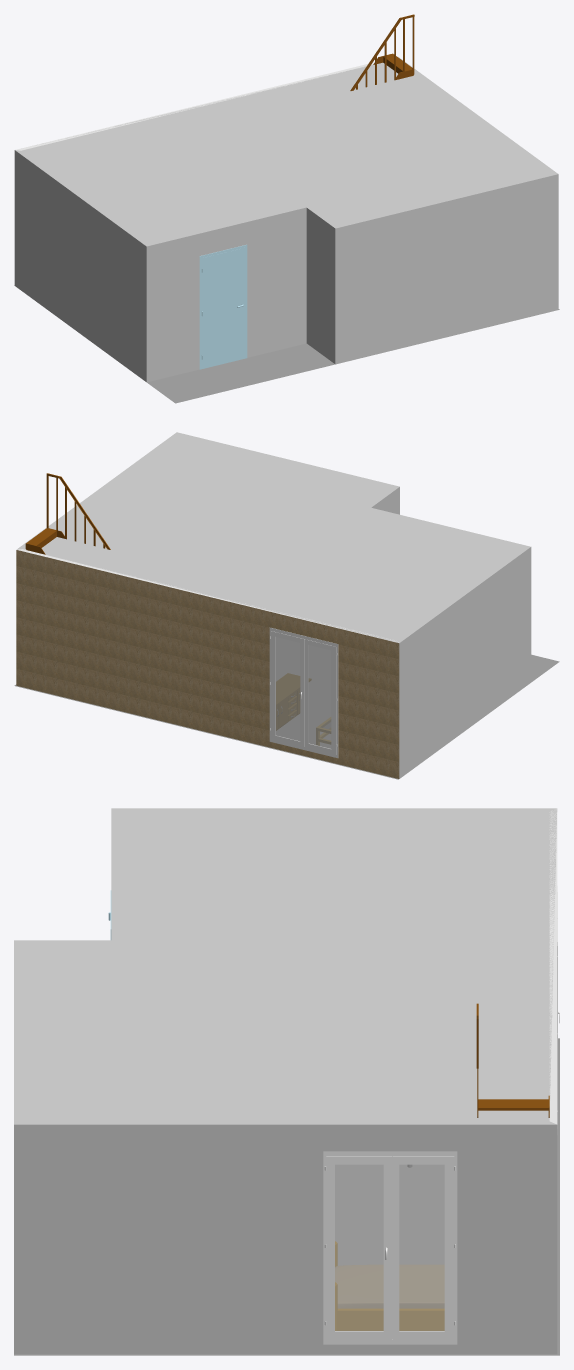
File: ws-try01.obj
3 views of the same model, one above another, from view 1: azimuth 30°, elevation 25°; view 2: azimuth 150°, elevation 25°; view 3: azimuth 270°, elevation 25° (orthographic). The views are drawn at different scales.
Parts seen in each view (by area): view 1: room_9_51, wall_4_23, wall_1_5, wall_2_11, Porte_56, ground_1, wall_3_17, wall_7_41, Montant_57, wall_6_37, wall_6_36; view 2: room_9_51, wall_6_35, wall_1_5, sweethome3d_window_pane_59, room_9_50, Fenetre_1_64, Fenetre_2_65, wall_7_41, 69, ground_1, wall_6_37, Cube_2_157; view 3: room_9_51, wall_5_29, sweethome3d_window_pane_86, room_9_50, Fenetre_1_91, Fenetre_2_92, Matelas_78, 96, Bord_2_76, ground_1, wall_6_37, wall_6_36 (+8 smaller).
Part boxes in pixels (<box>): room_9_51: <box>21,62,551,243</box>; wall_4_23: <box>335,174,558,364</box>; wall_1_5: <box>22,158,146,381</box>; wall_2_11: <box>146,207,306,382</box>; Porte_56: <box>202,248,244,368</box>; ground_1: <box>14,285,559,403</box>; wall_3_17: <box>306,208,335,363</box>; wall_7_41: <box>14,150,22,291</box>; Montant_57: <box>199,244,247,369</box>; wall_6_37: <box>16,62,374,150</box>; wall_6_36: <box>19,63,373,150</box>; room_9_51: <box>23,435,524,642</box>; wall_6_35: <box>16,550,399,778</box>; wall_1_5: <box>407,547,531,773</box>; sweethome3d_window_pane_59: <box>275,637,331,748</box>; room_9_50: <box>276,637,330,747</box>; Fenetre_1_64: <box>271,631,304,747</box>; Fenetre_2_65: <box>305,639,336,754</box>; wall_7_41: <box>399,638,406,778</box>; 69: <box>269,627,338,758</box>; ground_1: <box>14,654,559,779</box>; wall_6_37: <box>16,549,398,642</box>; Cube_2_157: <box>276,673,311,705</box>; room_9_51: <box>21,808,557,1121</box>; wall_5_29: <box>14,1124,557,1354</box>; sweethome3d_window_pane_86: <box>335,1164,444,1331</box>; room_9_50: <box>335,1165,444,1265</box>; Fenetre_1_91: <box>326,1156,392,1339</box>; Fenetre_2_92: <box>393,1156,454,1339</box>; Matelas_78: <box>335,1265,444,1308</box>; 96: <box>323,1151,457,1344</box>; Bord_2_76: <box>337,1309,444,1330</box>; ground_1: <box>14,1038,559,1355</box>; wall_6_37: <box>553,809,557,1124</box>; wall_6_36: <box>549,810,553,1122</box>.
Size of the model in its own units: 740 by 362 by 538.
